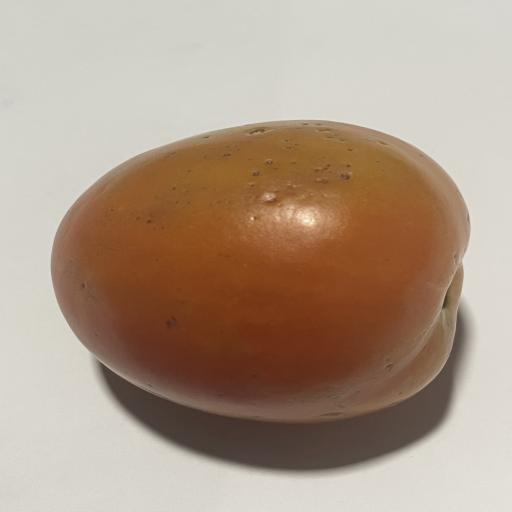unripe: (51, 120, 469, 423)
